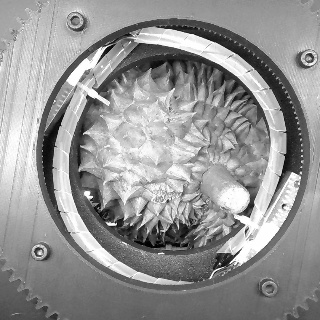base: (196, 161, 228, 196)
end: (218, 186, 250, 212)
